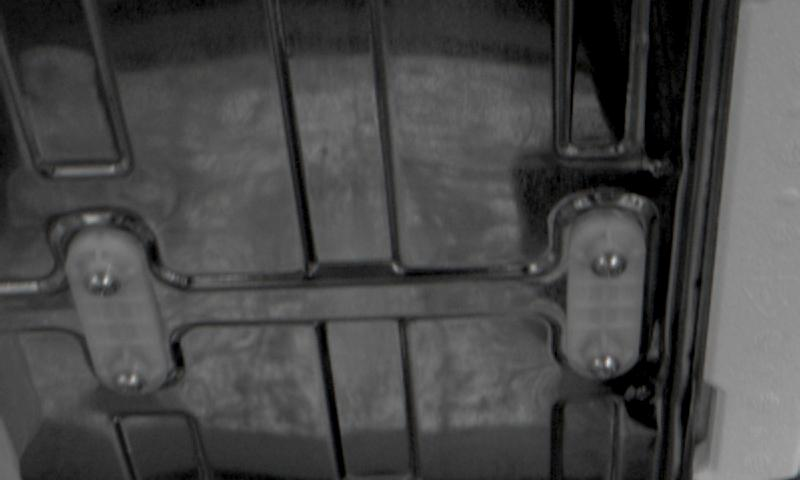vida-ok: (87, 254, 133, 298), (592, 246, 639, 289), (584, 347, 630, 387), (112, 358, 157, 397)
